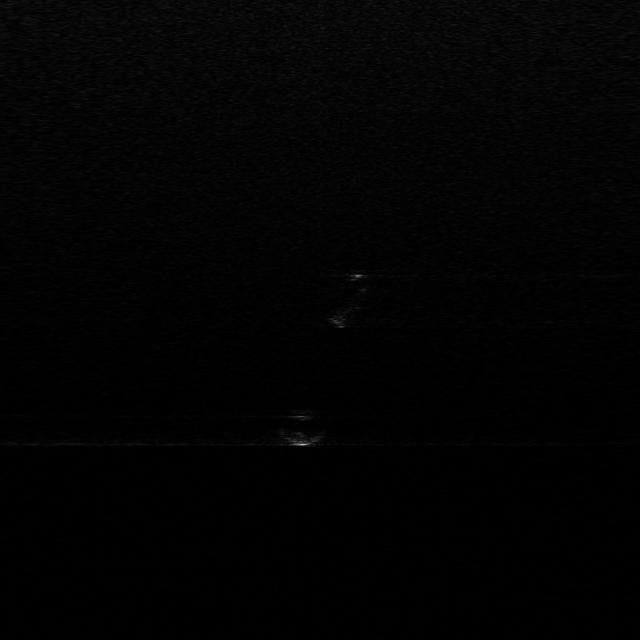ball: (277, 412, 329, 448)
tyre: (334, 266, 376, 331)
